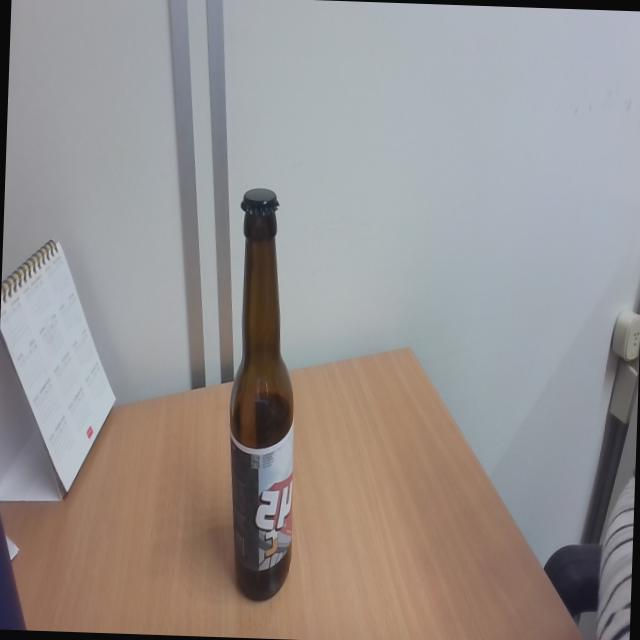Bottle: (222, 186, 303, 602)
Cap: (237, 186, 282, 220)
Label: (228, 434, 294, 572)
